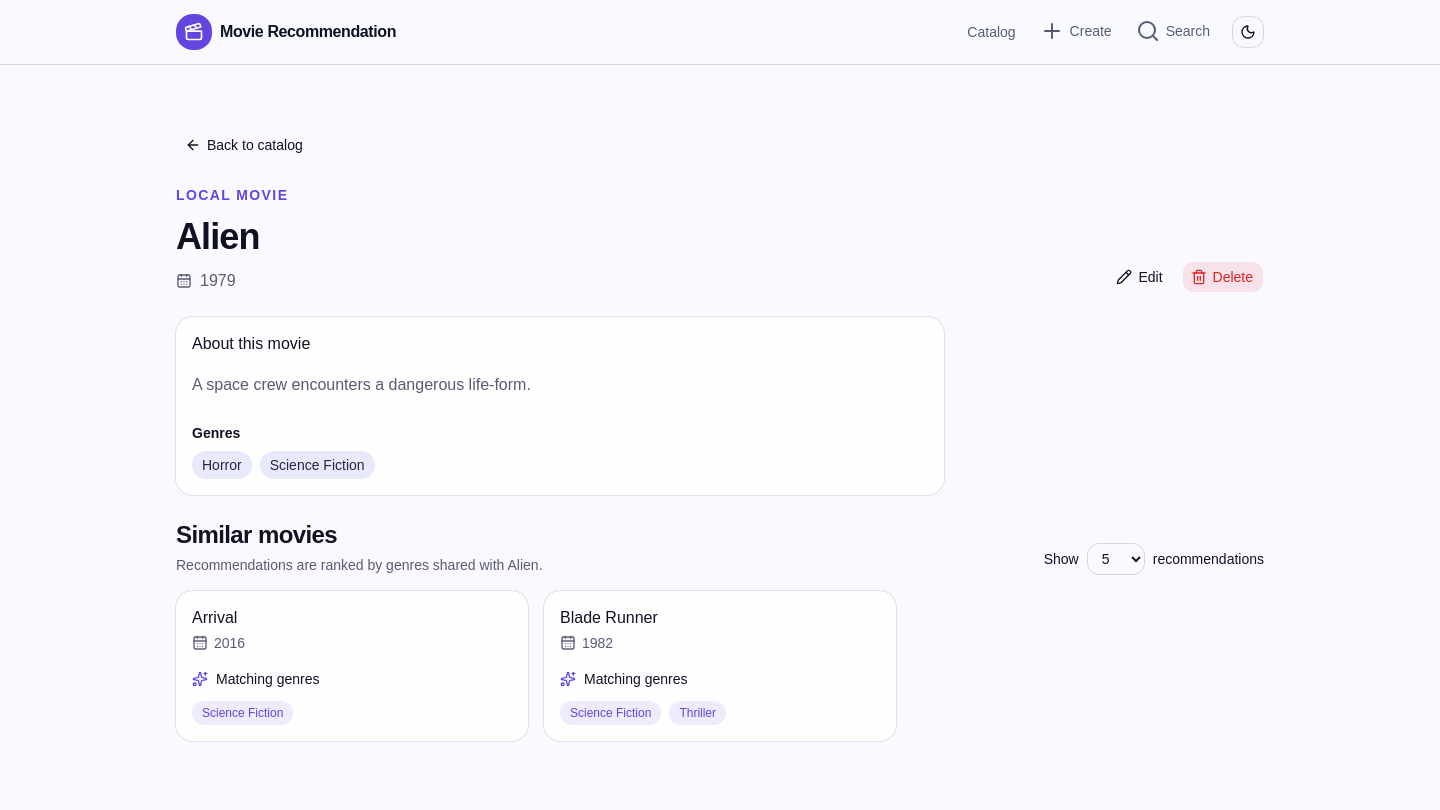
Test case: DeleteMovieDialog › names the movie and sends no request when cancelled
The image size is (1440, 810).
Click the button "Delete". click: [1223, 277]
box: [1182,261,1264,293]
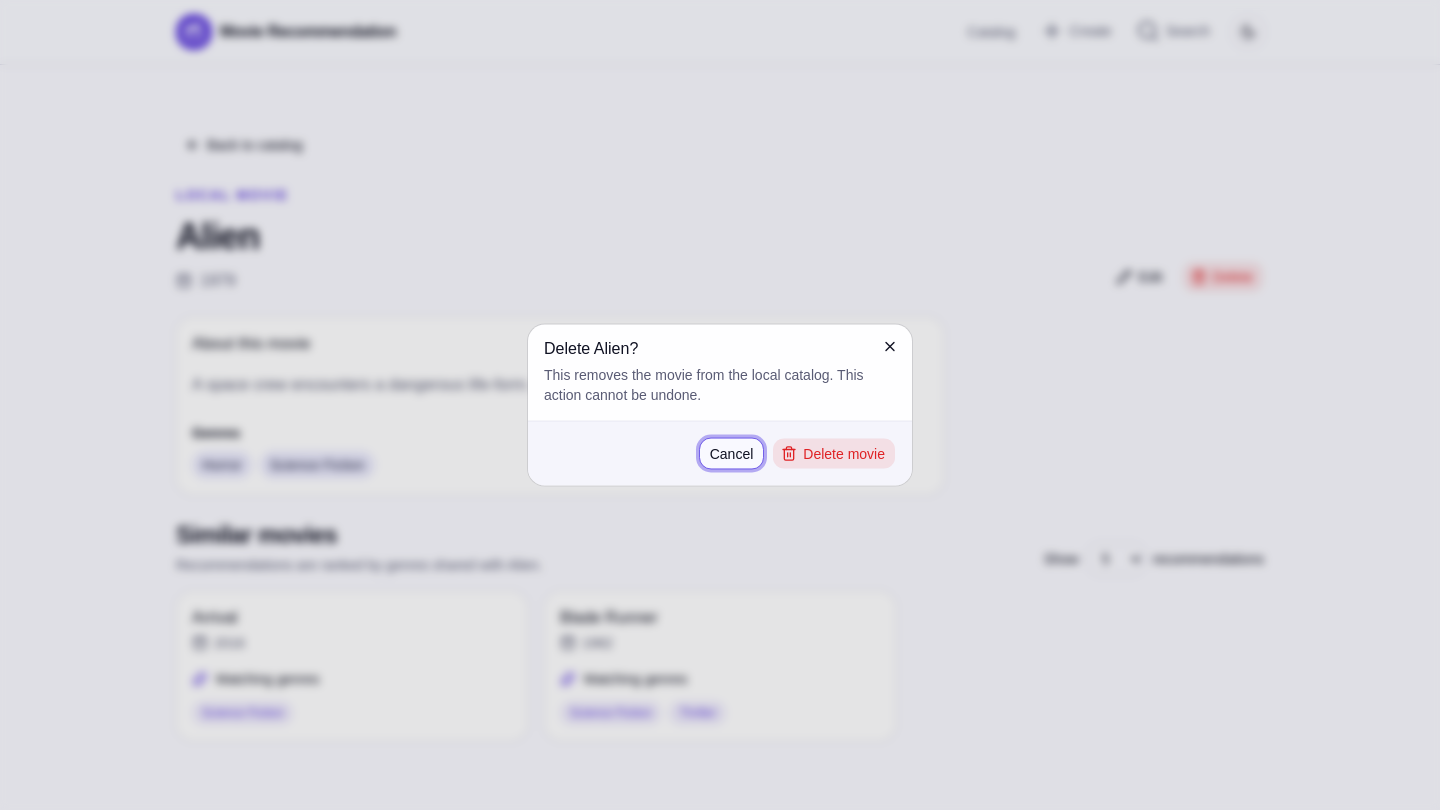
Result: the dialog "Delete Alien?" is shown at [528,324,912,486]
Click the button "Cancel". click: [732, 454]
box: [699,438,764,470]
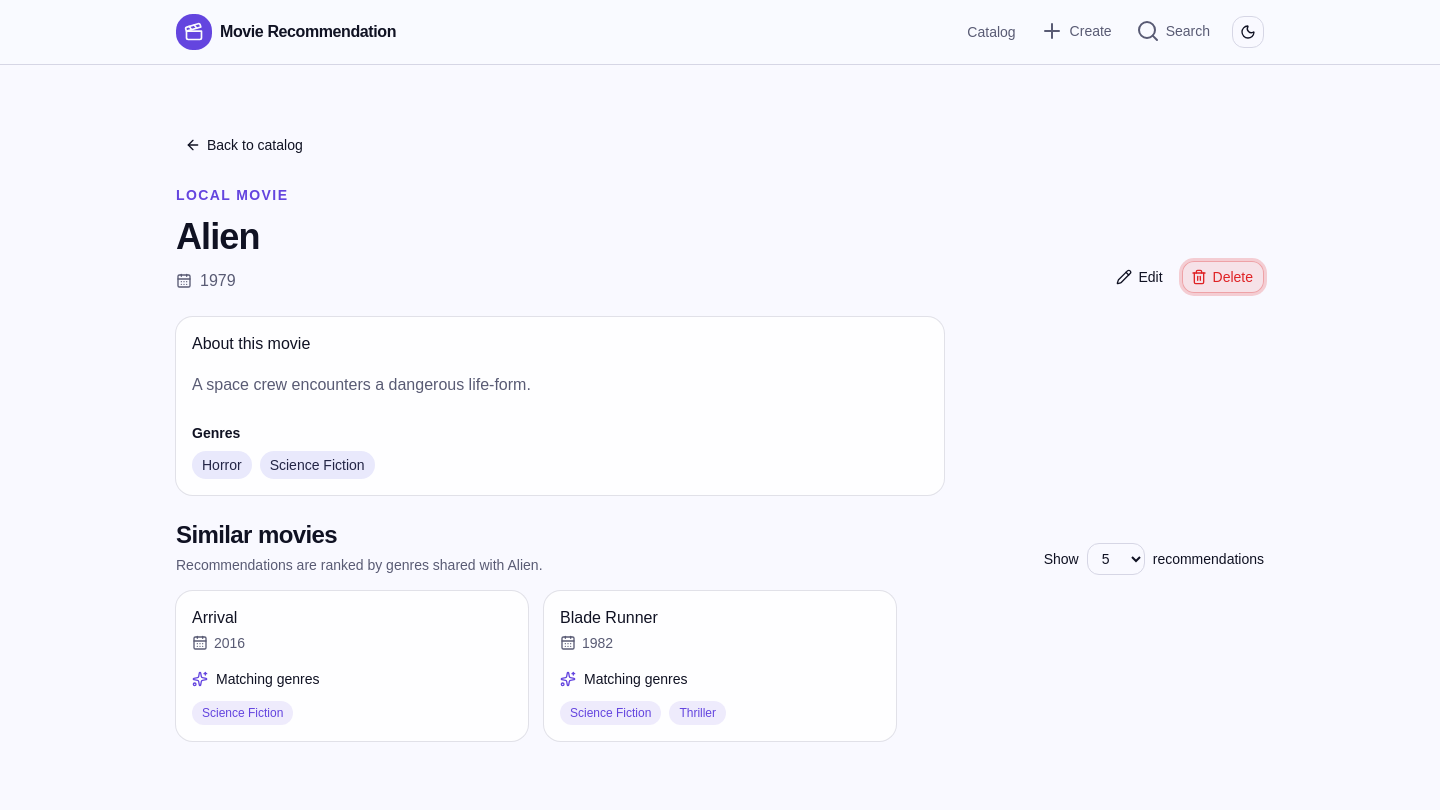
Result: the dialog is gone
